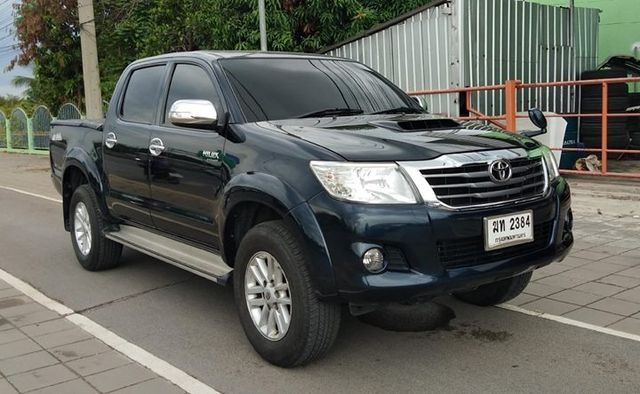pickup: (45, 48, 576, 370)
